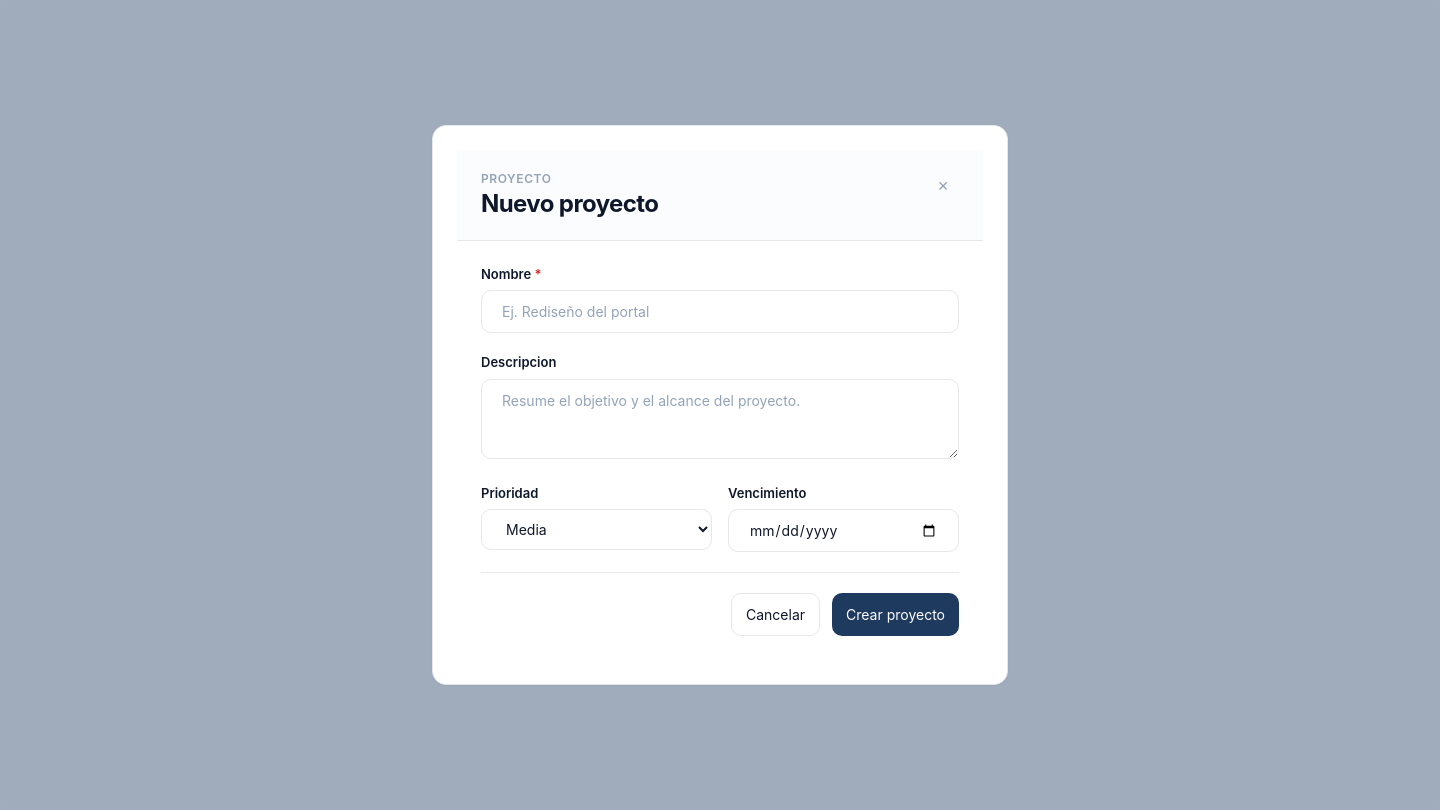
Test: ProjectForm › shows error when submit fails
The width and height of the screenshot is (1440, 810).
Type "Proyecto Error" into the field labelled "Nombre *". click: coordinates (720, 312)
box: [481,290,959,333]
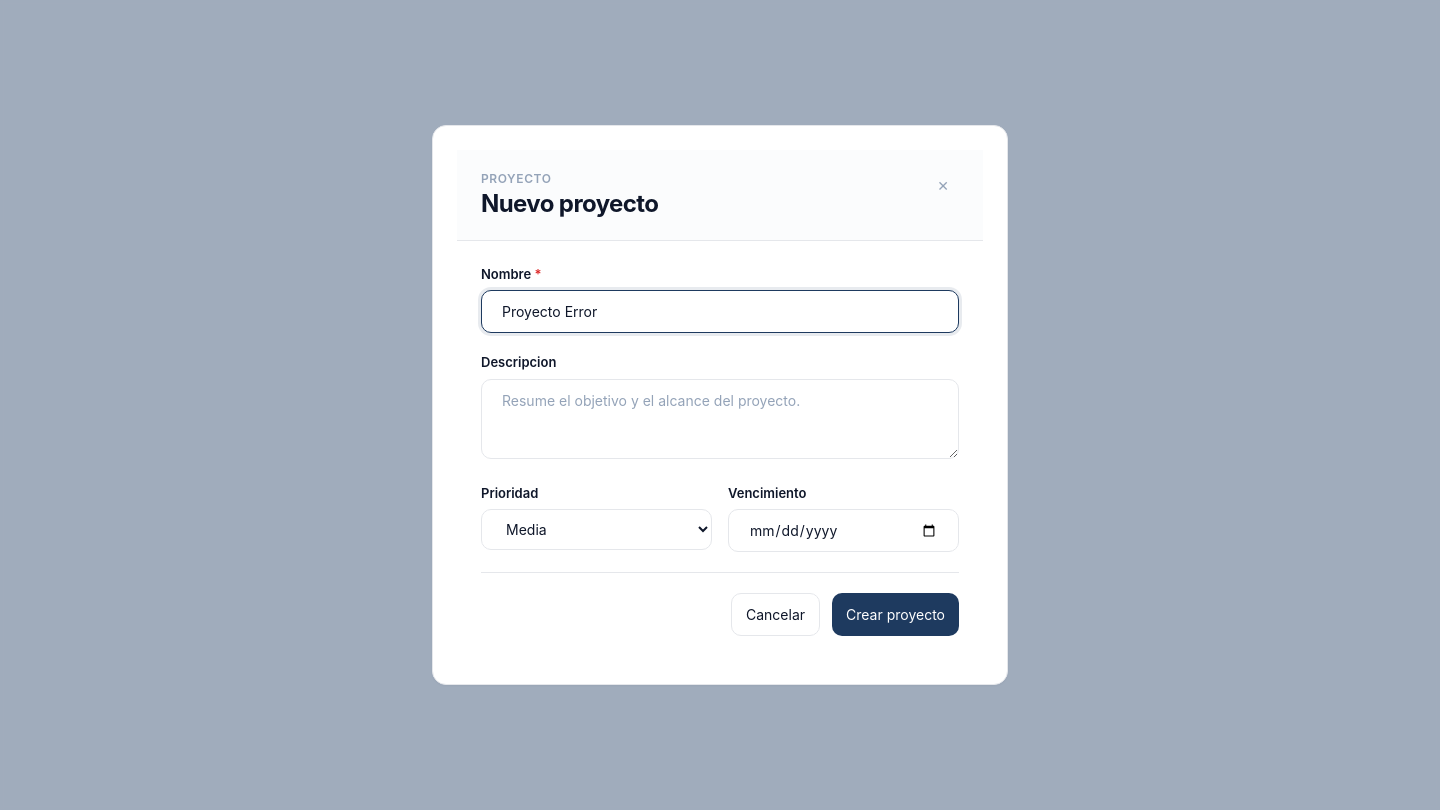
Click the button "Crear proyecto". click: coordinates (896, 615)
box: [832,593,959,636]
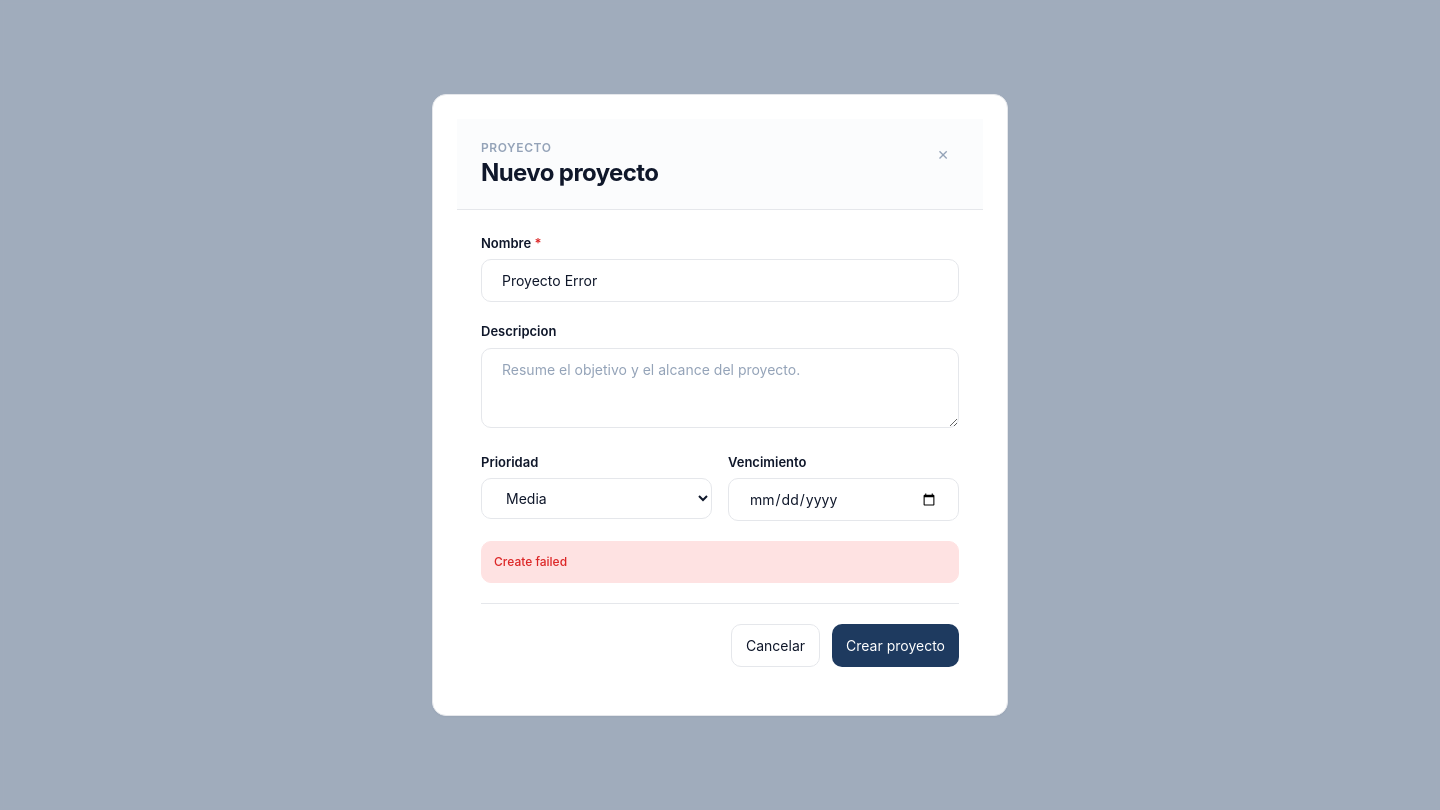
expect the text "Create failed" is shown: met, box [481,541,959,583]
